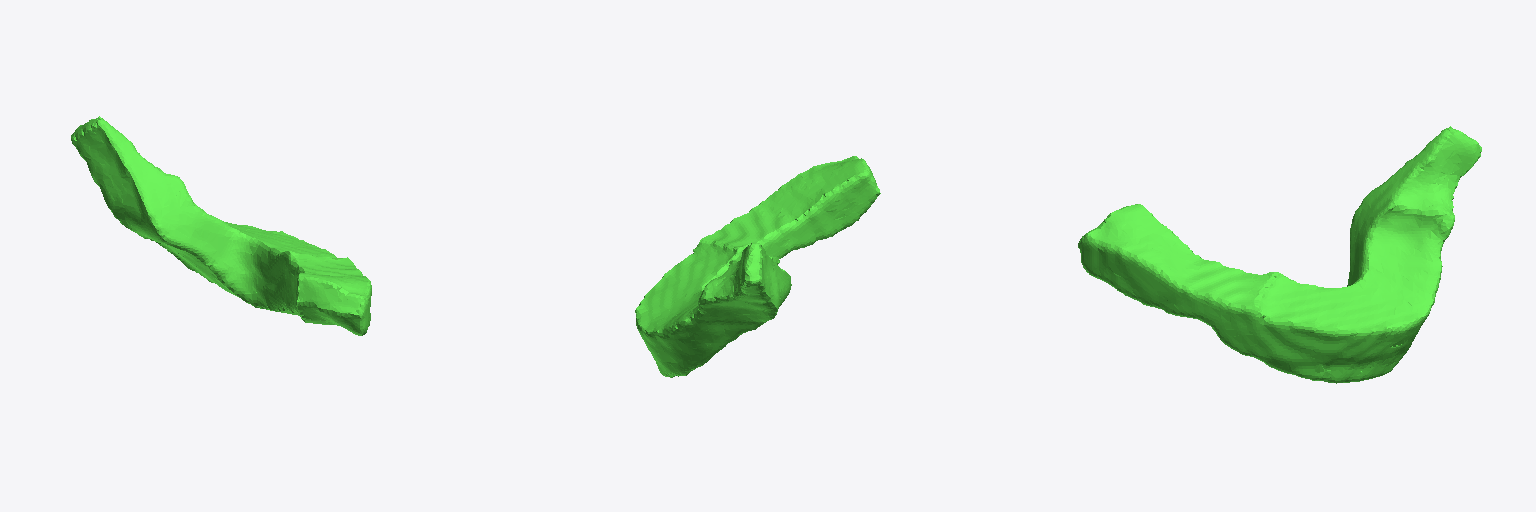
Rendered from Model_146_RH__Visual_area_4_(ventrolatereral_anterior_area)_(V4).obj.
3 renders of one model, left to right at view 1: azimuth 30°, elevation 25°; view 2: azimuth 150°, elevation 25°; view 3: azimuth 270°, elevation 25°, orthographic.
Bounding box in the file's own units: 5.17 × 5.26 × 10.21.